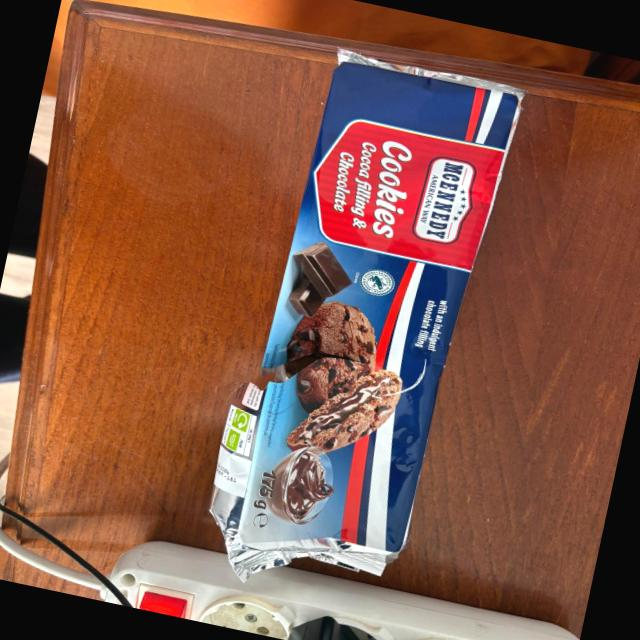damaged_package: (186, 39, 531, 616)
